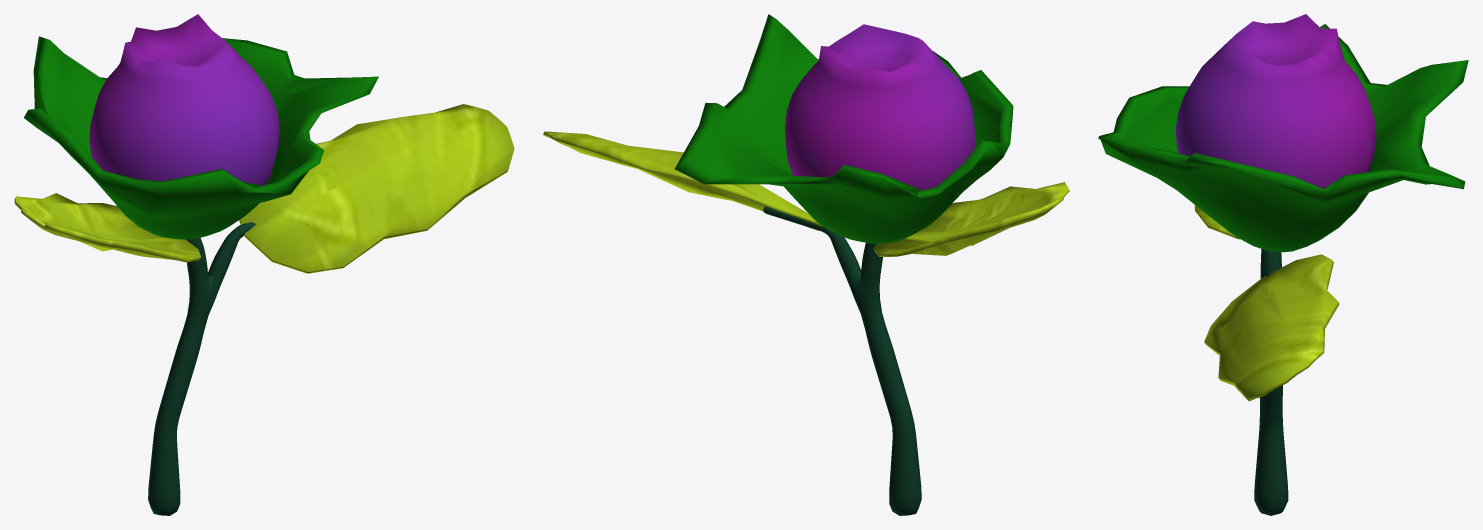
File: เชอรี่3.fbx
3 views of the same model, side by side, from view 1: azimuth 30°, elevation 25°; view 2: azimuth 150°, elevation 25°; view 3: azimuth 270°, elevation 25° (orthographic). The views are drawn at different scales.
Visible parts, largest first — view 1: Circle.004; view 2: Circle.004; view 3: Circle.004.
Boxes of the visible parts, x1=… form: Circle.004: x1=14, y1=14, x2=514, y2=515; Circle.004: x1=543, y1=14, x2=1069, y2=515; Circle.004: x1=1098, y1=14, x2=1468, y2=515.
Size of the model in its own units: 145 by 131 by 89.42.
